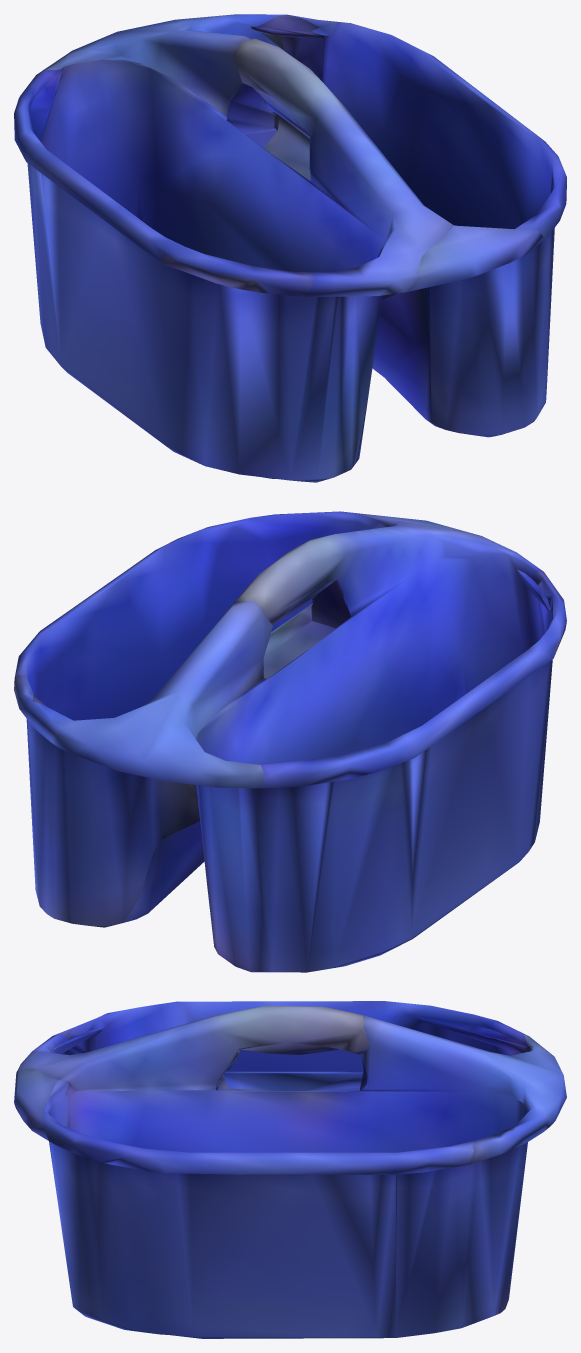
File: Sterilite_Caddy_Blue_Sky_17_58_x_12_58_x_9_14-medium.glb
The picture shows the model from 3 angles, top to bottom: view 1: azimuth 30°, elevation 25°; view 2: azimuth 150°, elevation 25°; view 3: azimuth 270°, elevation 25°; orthographic projection. The views are drawn at different scales.
Parts seen in each view (by area): view 1: Sterilite_Caddy_Blue_Sky_17_58_x_12_58_x_9_14; view 2: Sterilite_Caddy_Blue_Sky_17_58_x_12_58_x_9_14; view 3: Sterilite_Caddy_Blue_Sky_17_58_x_12_58_x_9_14.
Boxes of the visible parts, x1,y1,x2,y2 form: Sterilite_Caddy_Blue_Sky_17_58_x_12_58_x_9_14: (14, 14, 566, 482); Sterilite_Caddy_Blue_Sky_17_58_x_12_58_x_9_14: (14, 511, 566, 972); Sterilite_Caddy_Blue_Sky_17_58_x_12_58_x_9_14: (14, 1001, 566, 1338).
Bounding box in the file's own units: 0.3135 × 0.2337 × 0.4457.
Materials: 1 (1 with a texture image).
